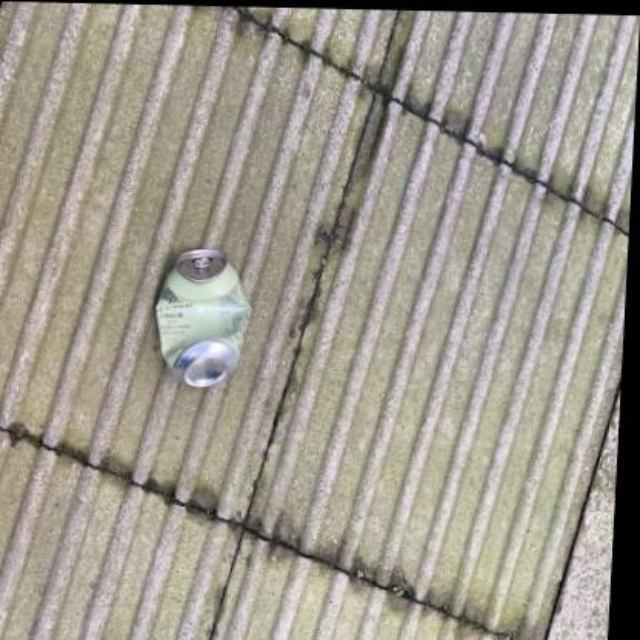trash: (157, 248, 248, 386)
